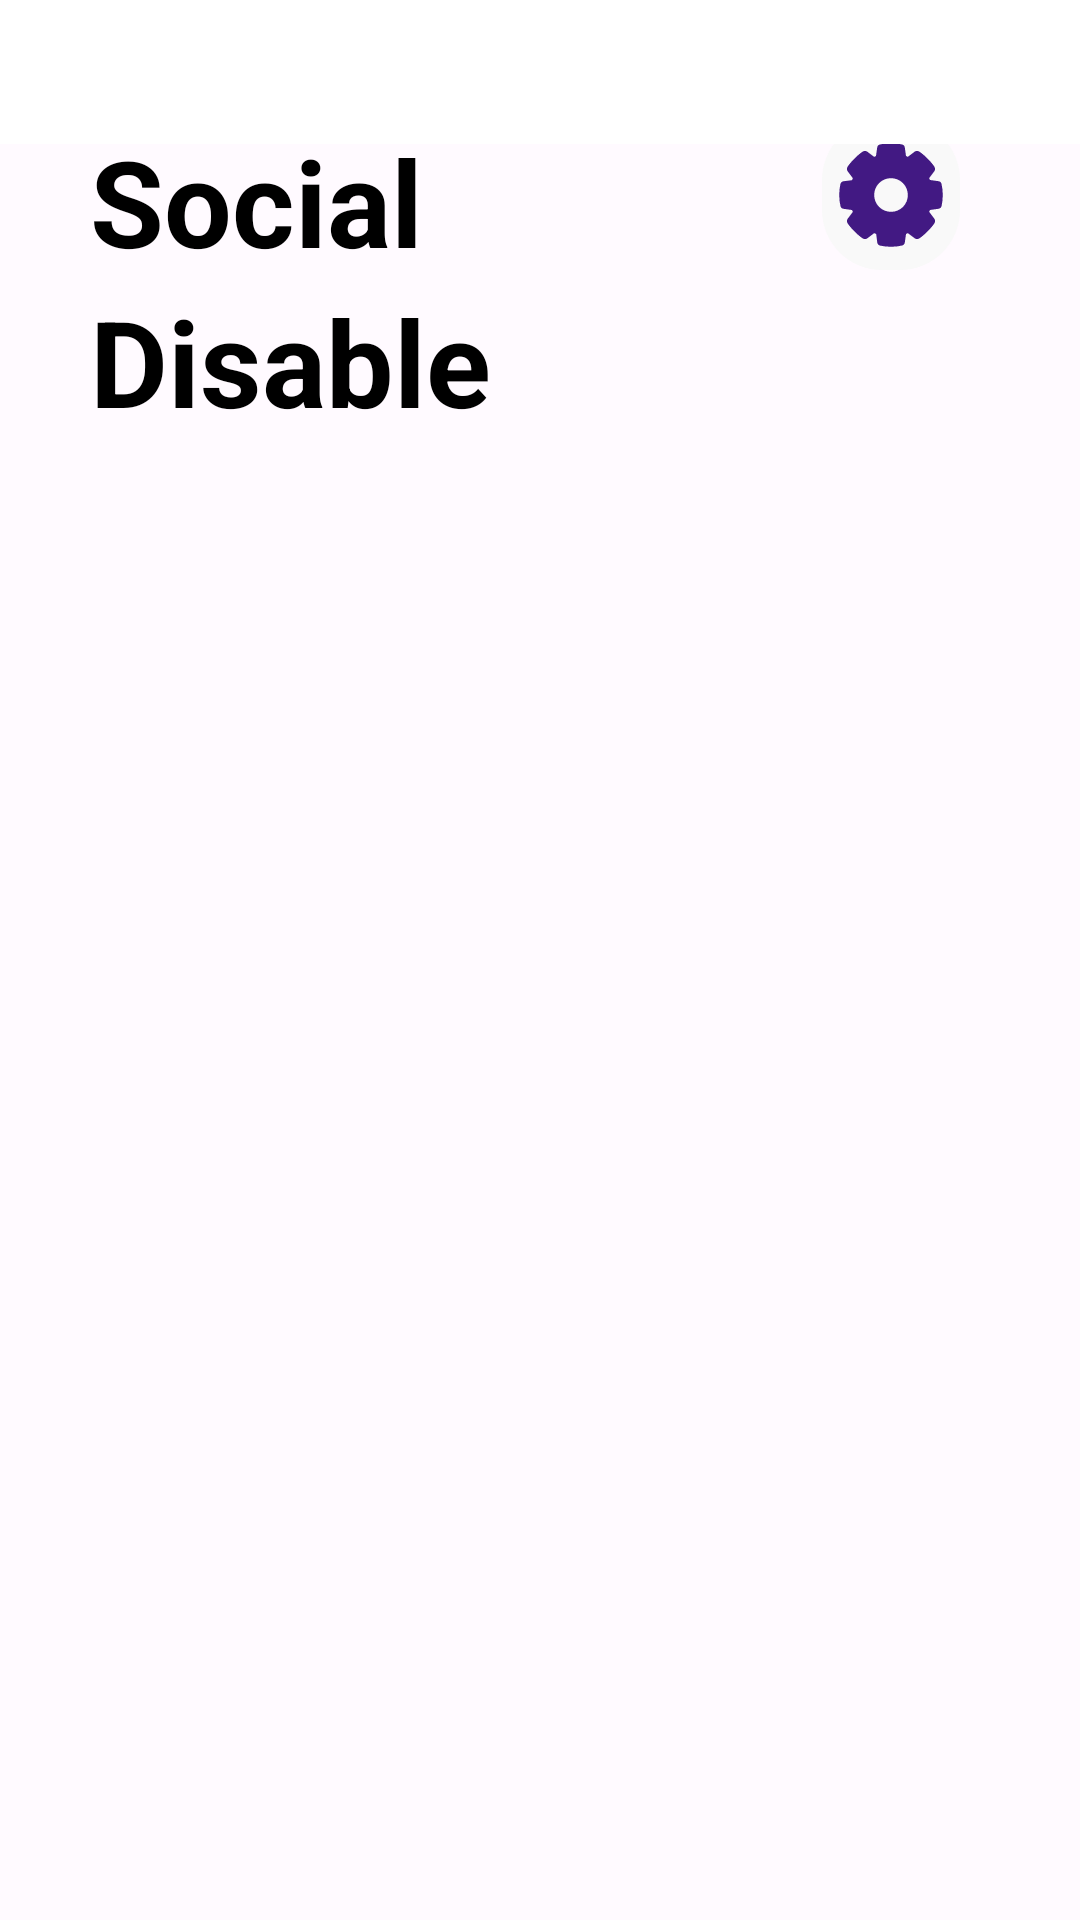

Icons on this 1080*1920 Android screen, each with the point to tap as (x=x, y=y):
settings: (x=891, y=195)
